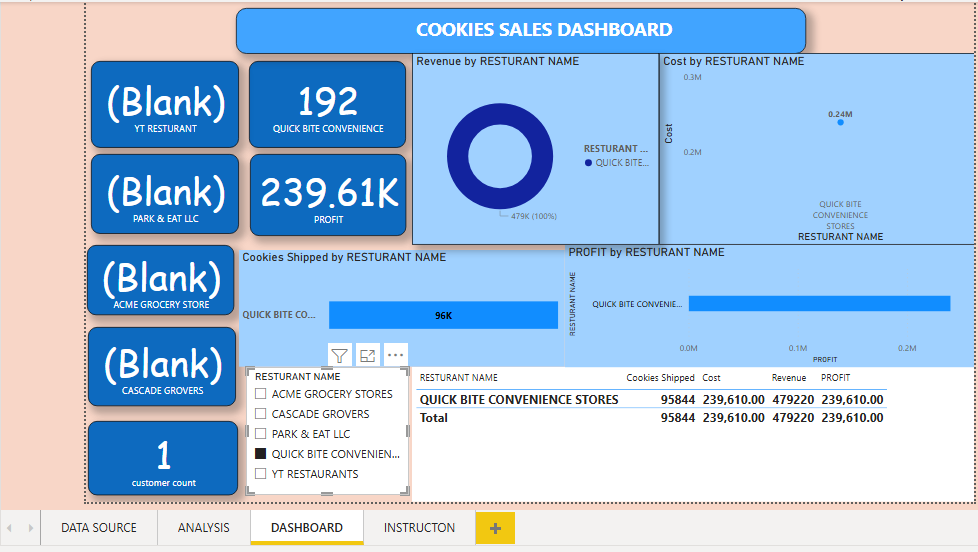

The dashboard page shown, as its layout file describes it:
{"tool":"powerbi","page":{"name":"DASHBOARD","canvas":[1280,720],"ordinal":2},"visuals":[{"type":"card","fields":{"Values":["Order_Data.head count"]},"box":[234.7,85,226.1,125.3],"z":0},{"type":"card","fields":{"Values":["Order_Data.head count"]},"box":[7.2,85,213.1,125.3],"z":1000},{"type":"card","fields":{"Values":["Order_Data.head count"]},"box":[7.2,218.9,213.1,115.2],"z":2000},{"type":"card","fields":{"Values":["Order_Data.head count"]},"box":[1.4,349.9,211.7,100.8],"z":3000},{"type":"card","fields":{"Values":["Order_Data.head count"]},"box":[2.9,468,213.1,113.8],"z":4000},{"type":"textbox","box":[216.7,8.4,821.4,65.5],"z":5000},{"type":"card","fields":{"Values":["Sum(Order_Data.PROFIT)"]},"box":[236.2,218.9,224.6,118.1],"z":6000},{"type":"card","fields":{"Values":["Order_Data.customer count"]},"box":[2.9,603.4,216,106.6],"z":7000},{"type":"tableEx","fields":{"Values":["Order_Data.RESTURANT NAME","Sum(Order_Data.Cookies Shipped)","Sum(Order_Data.Cost)","Sum(Order_Data.Revenue)","Sum(Order_Data.PROFIT)"]},"box":[469.4,525.6,810.7,194.4],"z":8000},{"type":"areaChart","fields":{"Category":["Order_Data.RESTURANT NAME"],"Y":["Sum(Order_Data.Cost)"]},"box":[825.1,73.4,455,276.5],"z":9000},{"type":"clusteredBarChart","fields":{"Category":["Order_Data.RESTURANT NAME"],"Y":["Sum(Order_Data.PROFIT)"]},"box":[689.8,349.9,590.4,175.7],"z":10000},{"type":"funnel","fields":{"Category":["Order_Data.RESTURANT NAME"],"Y":["Sum(Order_Data.Cookies Shipped)"]},"box":[220.3,357.1,469.4,168.5],"z":11000},{"type":"donutChart","fields":{"Category":["Order_Data.RESTURANT NAME"],"Y":["Sum(Order_Data.Revenue)"]},"box":[469.4,73.4,355.7,276.5],"z":12000},{"type":"slicer","fields":{"Values":["Order_Data.RESTURANT NAME"]},"box":[230.4,525.6,234.7,184.3],"z":13000}]}

Visuals, with their boxes on the page's 1280x720 design canvas (x1, y1, x2, y2). These are canvas units, not pixel positions in the 978x552 screenshot, which may show the page scaled, cropped or inside an application window:
card - Order_Data.head count: [235,85,461,210]
card - Order_Data.head count: [7,85,220,210]
card - Order_Data.head count: [7,219,220,334]
card - Order_Data.head count: [1,350,213,451]
card - Order_Data.head count: [3,468,216,582]
textbox: [217,8,1038,74]
card - Sum(Order_Data.PROFIT): [236,219,461,337]
card - Order_Data.customer count: [3,603,219,710]
tableEx - Order_Data.RESTURANT NAME x Sum(Order_Data.Cookies Shipped): [469,526,1280,720]
areaChart - Order_Data.RESTURANT NAME x Sum(Order_Data.Cost): [825,73,1280,350]
clusteredBarChart - Order_Data.RESTURANT NAME x Sum(Order_Data.PROFIT): [690,350,1280,526]
funnel - Order_Data.RESTURANT NAME x Sum(Order_Data.Cookies Shipped): [220,357,690,526]
donutChart - Order_Data.RESTURANT NAME x Sum(Order_Data.Revenue): [469,73,825,350]
slicer - Order_Data.RESTURANT NAME: [230,526,465,710]
